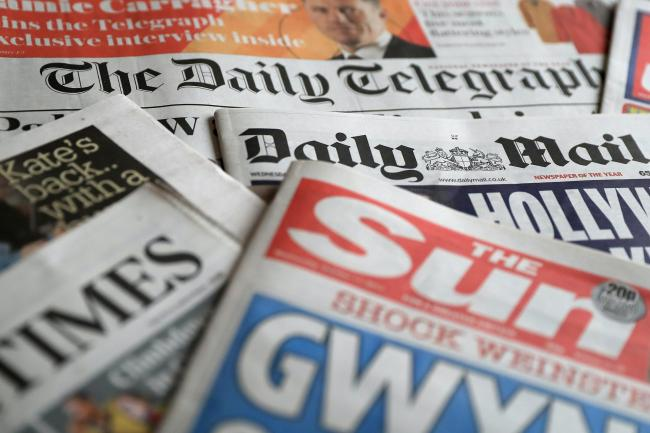news_paper: (2, 1, 650, 280), (142, 120, 649, 433), (2, 88, 364, 433)
